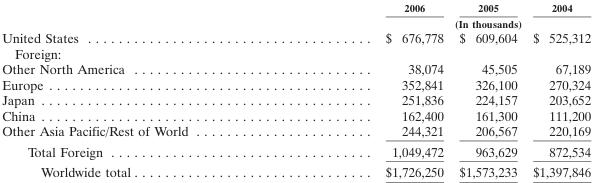table: (1, 1, 590, 179)
table column: (1, 1, 286, 179), (286, 1, 450, 179), (450, 1, 524, 179), (524, 1, 590, 179)
table column header: (1, 1, 590, 29)
table projected row header: (1, 45, 590, 60)
table row: (1, 140, 590, 161), (1, 122, 590, 140), (1, 161, 590, 179), (1, 29, 590, 45), (1, 60, 590, 76), (1, 91, 590, 107), (1, 45, 590, 60), (1, 76, 590, 91), (1, 107, 590, 122), (1, 1, 590, 15), (1, 15, 590, 29)
table spanning cell: (286, 15, 590, 29)
